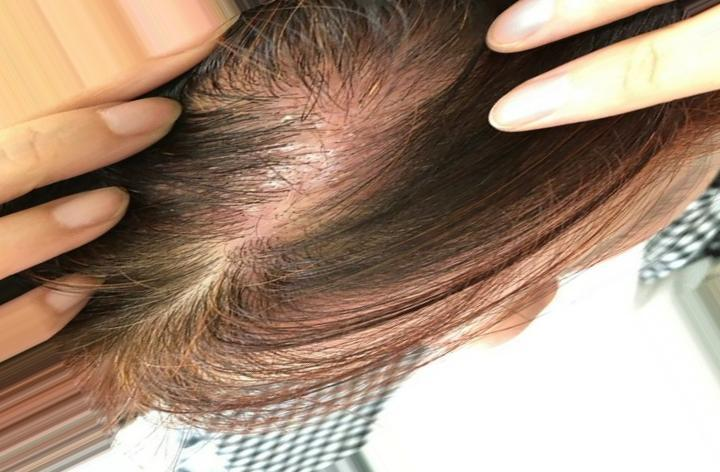Contact Dermatitis: (209, 34, 448, 261)
